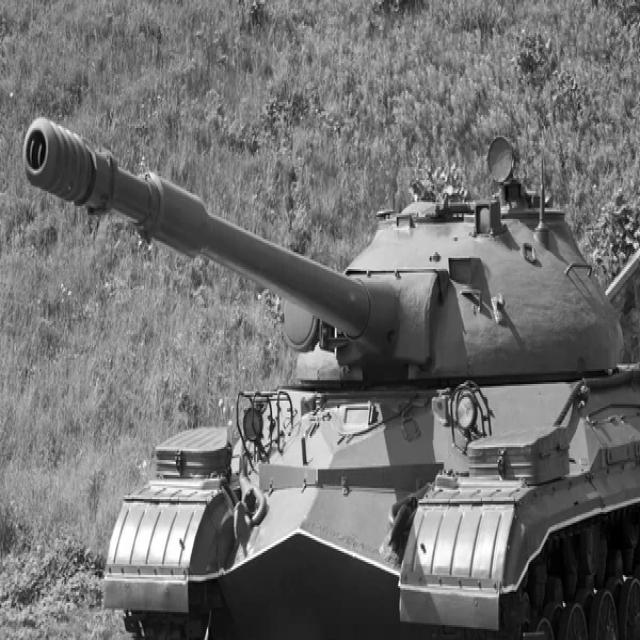Tank: (22, 102, 640, 640)
